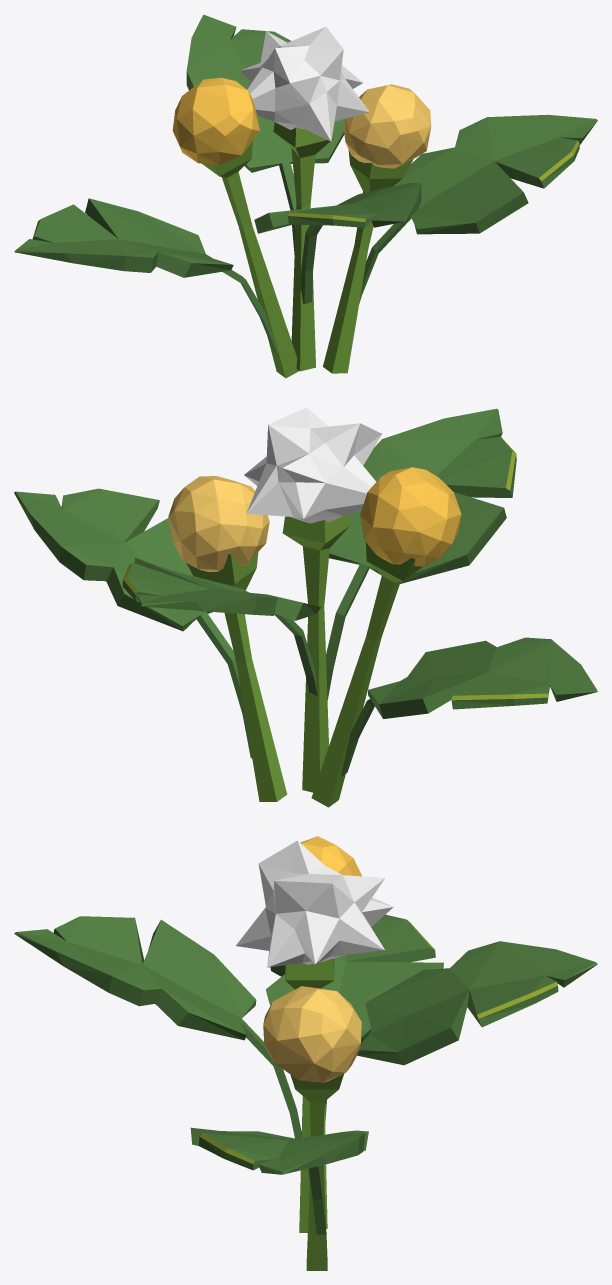
Rendered from EA_M_Env_Flower_01a_PRE.glb.
3 views of the same model, one above another, from view 1: azimuth 30°, elevation 25°; view 2: azimuth 150°, elevation 25°; view 3: azimuth 270°, elevation 25° (orthographic). The views are drawn at different scales.
Parts seen in each view (by area): view 1: EA_M_Env_Flower_01a; view 2: EA_M_Env_Flower_01a; view 3: EA_M_Env_Flower_01a.
Boxes of the visible parts, <box> form: EA_M_Env_Flower_01a: <box>14,14,597,378</box>; EA_M_Env_Flower_01a: <box>14,407,597,807</box>; EA_M_Env_Flower_01a: <box>14,836,597,1270</box>.
Bounding box in the file's own units: 1.15 × 0.6898 × 0.9396.
1 material, 1 textured.
